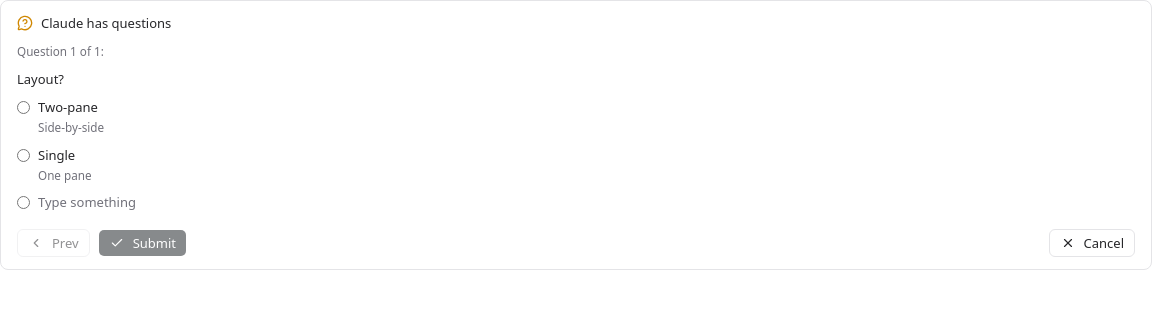
Test: ApprovalCard — AskUserQuestion form (parsed from content_preview) › renders the preview of selected options that carry a preview field
Click the radio button labelled "Two-pane Side-by-side". click: (24, 108)
box: [17,101,30,114]
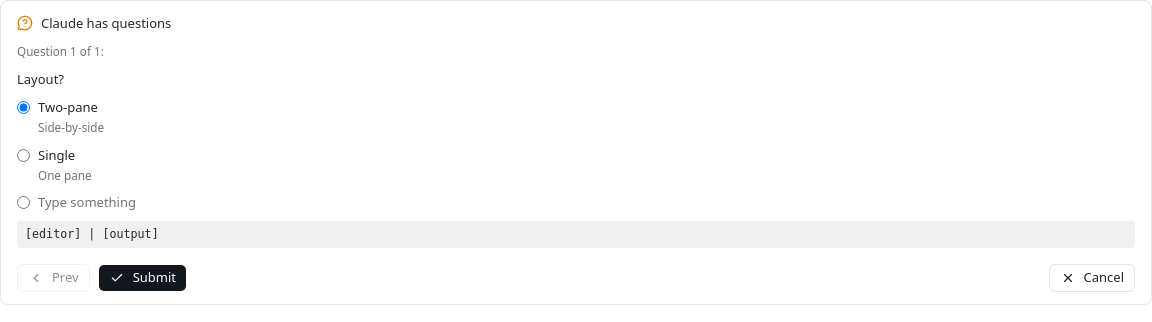
Expected: the element with test id "ask-user-question-previews" does not show "[editor only]"
Expected: the element with test id "ask-user-question-previews" reads "[editor] | [output]", [25,227,159,241]
Click the radio button labelled "Single One pane". click: (24, 155)
box: [17,149,30,162]
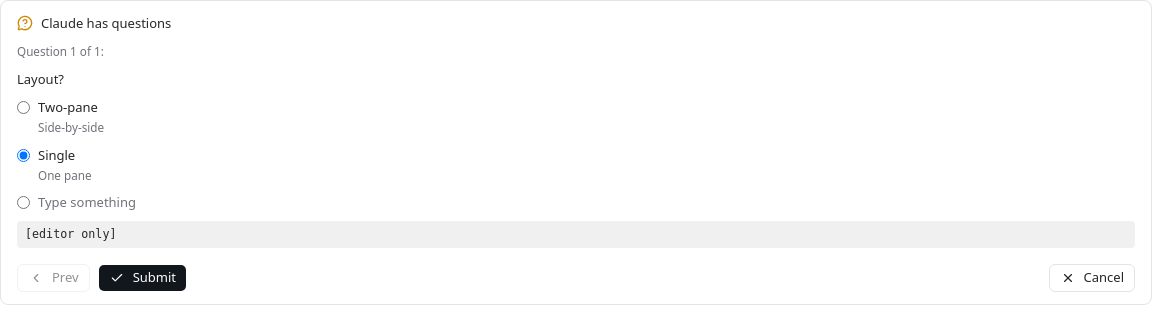
Expected: the element with test id "ask-user-question-previews" reads "[editor only]", [25,227,116,241]
